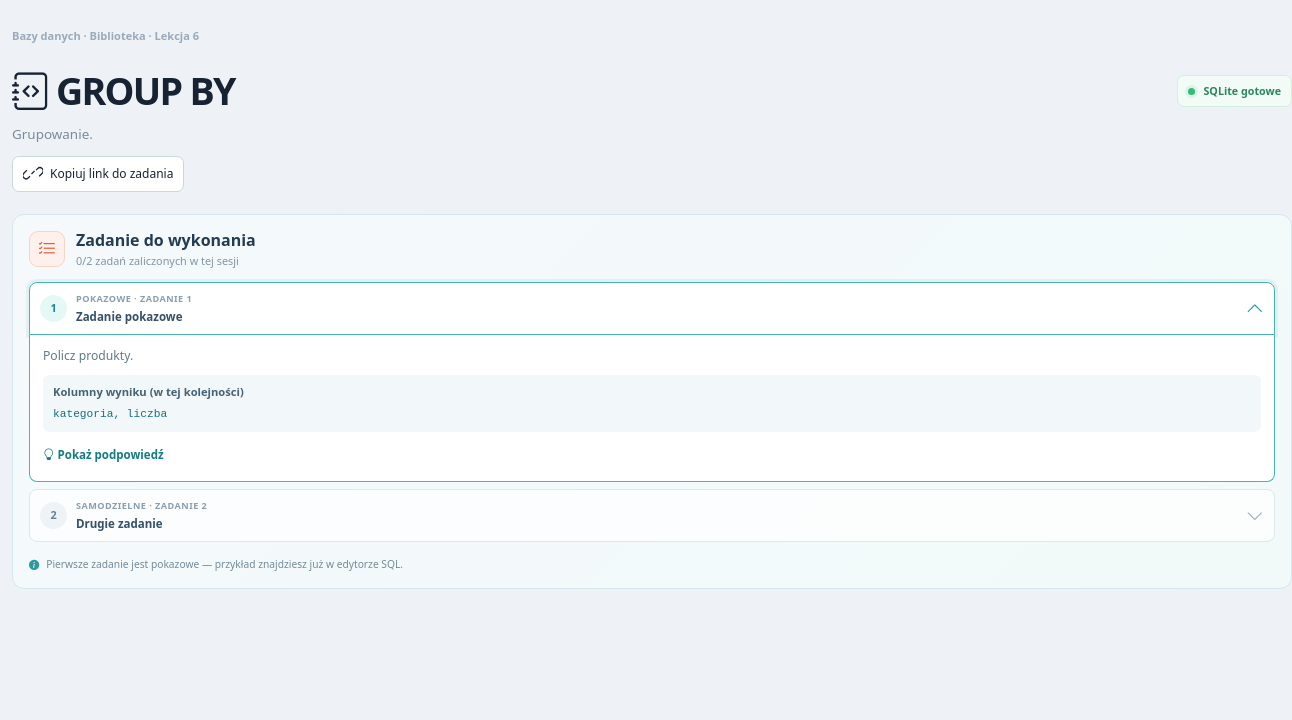
Test: LessonPanel › expands only the selected task and shows exact result columns before revealing the hint
Later steps or results of the test are not shown.
Expected: the text "Kolumny wyniku (w tej kolejności)" is shown, [53,384,244,399]
Expected: the text "kategoria, liczba" is shown, [53,408,167,420]
Click the button "Pokaż podpowiedź" at (103, 454), box [43,442,164,467]
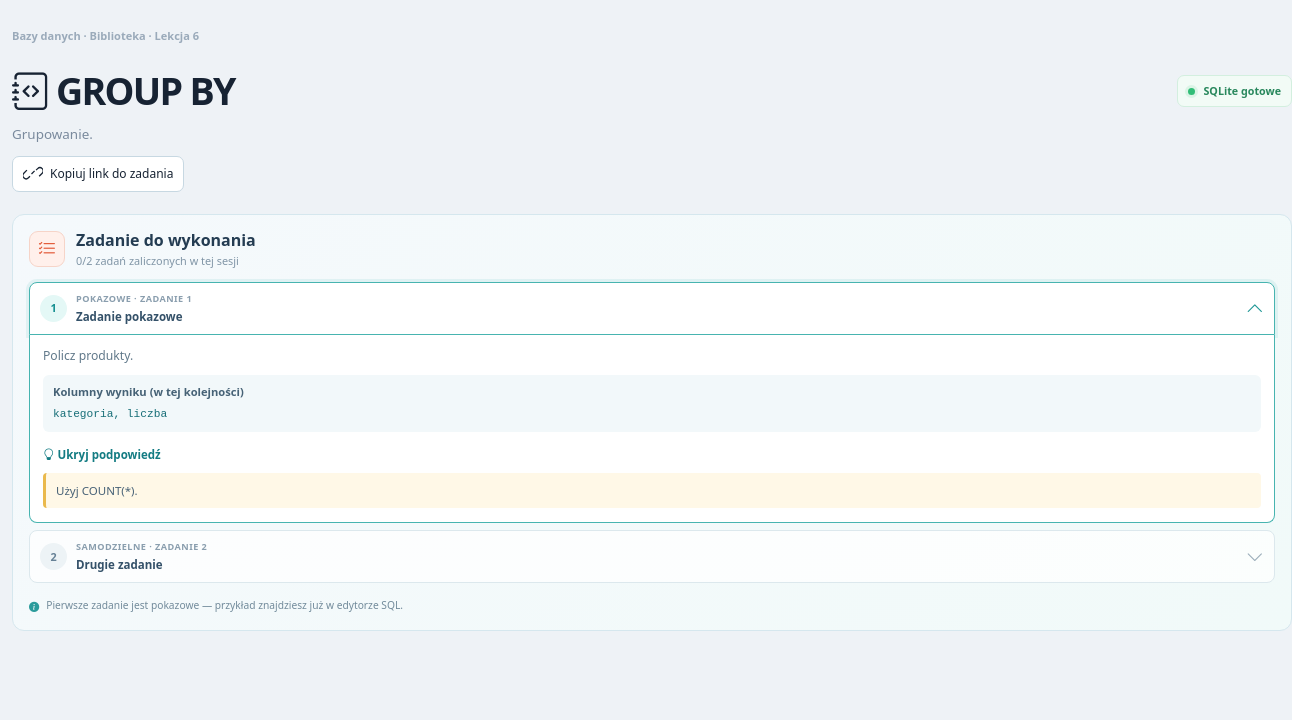
Now the text "Użyj COUNT(*)." is shown, box [43,473,1261,508]
